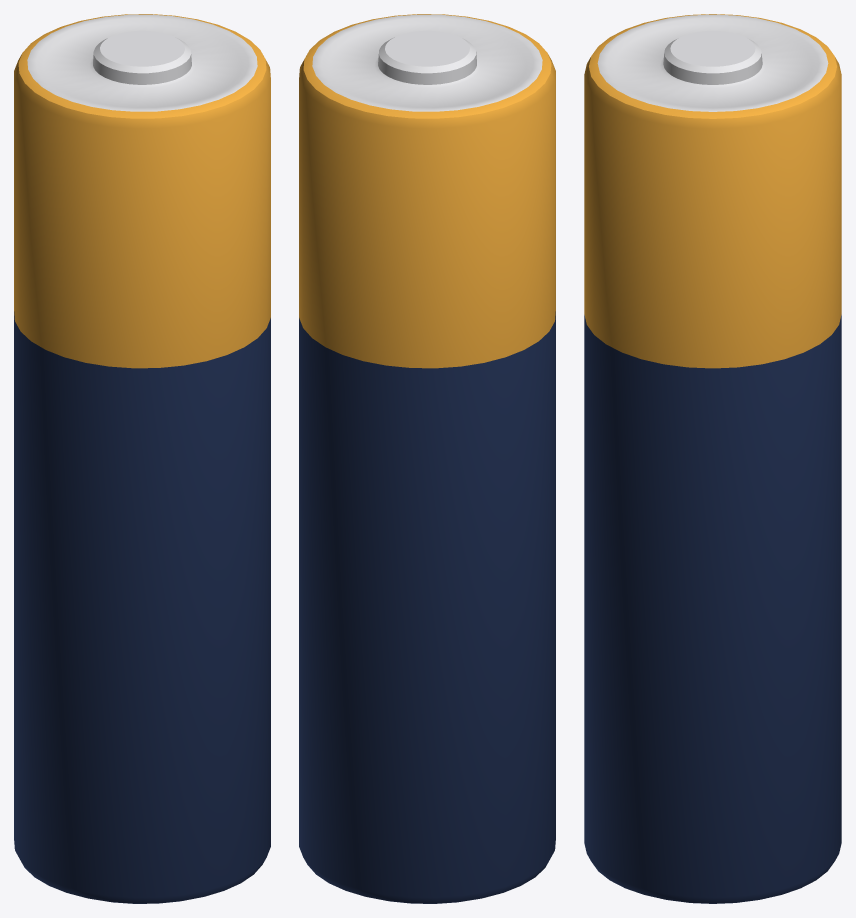
Rendered from FlashlightBattery.fbx.
3 renders of one model, left to right at view 1: azimuth 30°, elevation 25°; view 2: azimuth 150°, elevation 25°; view 3: azimuth 270°, elevation 25°, orthographic.
Parts seen in each view (by area): view 1: FlashlightBattery; view 2: FlashlightBattery; view 3: FlashlightBattery.
Part boxes in pixels (x1,y1,x2,y2): FlashlightBattery: (14, 14, 270, 903); FlashlightBattery: (299, 14, 555, 903); FlashlightBattery: (584, 14, 841, 903).
Bounding box in the file's own units: 0.0145 × 0.0505 × 0.0145.
